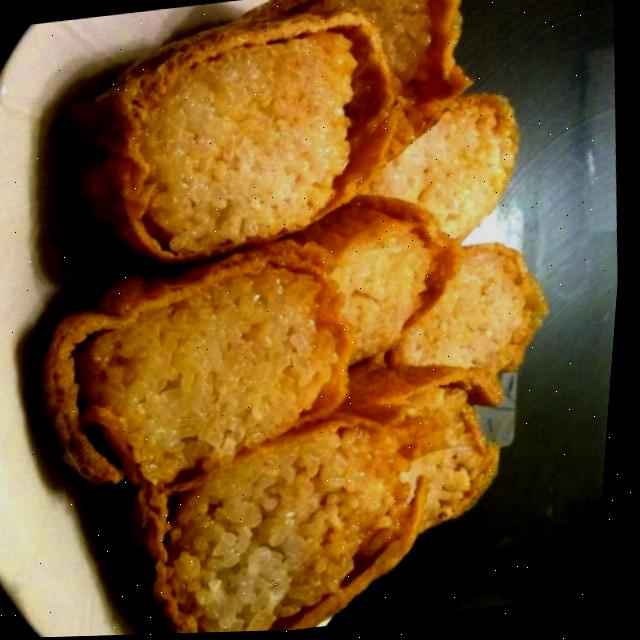寿司卷物: (0, 0, 614, 640)
